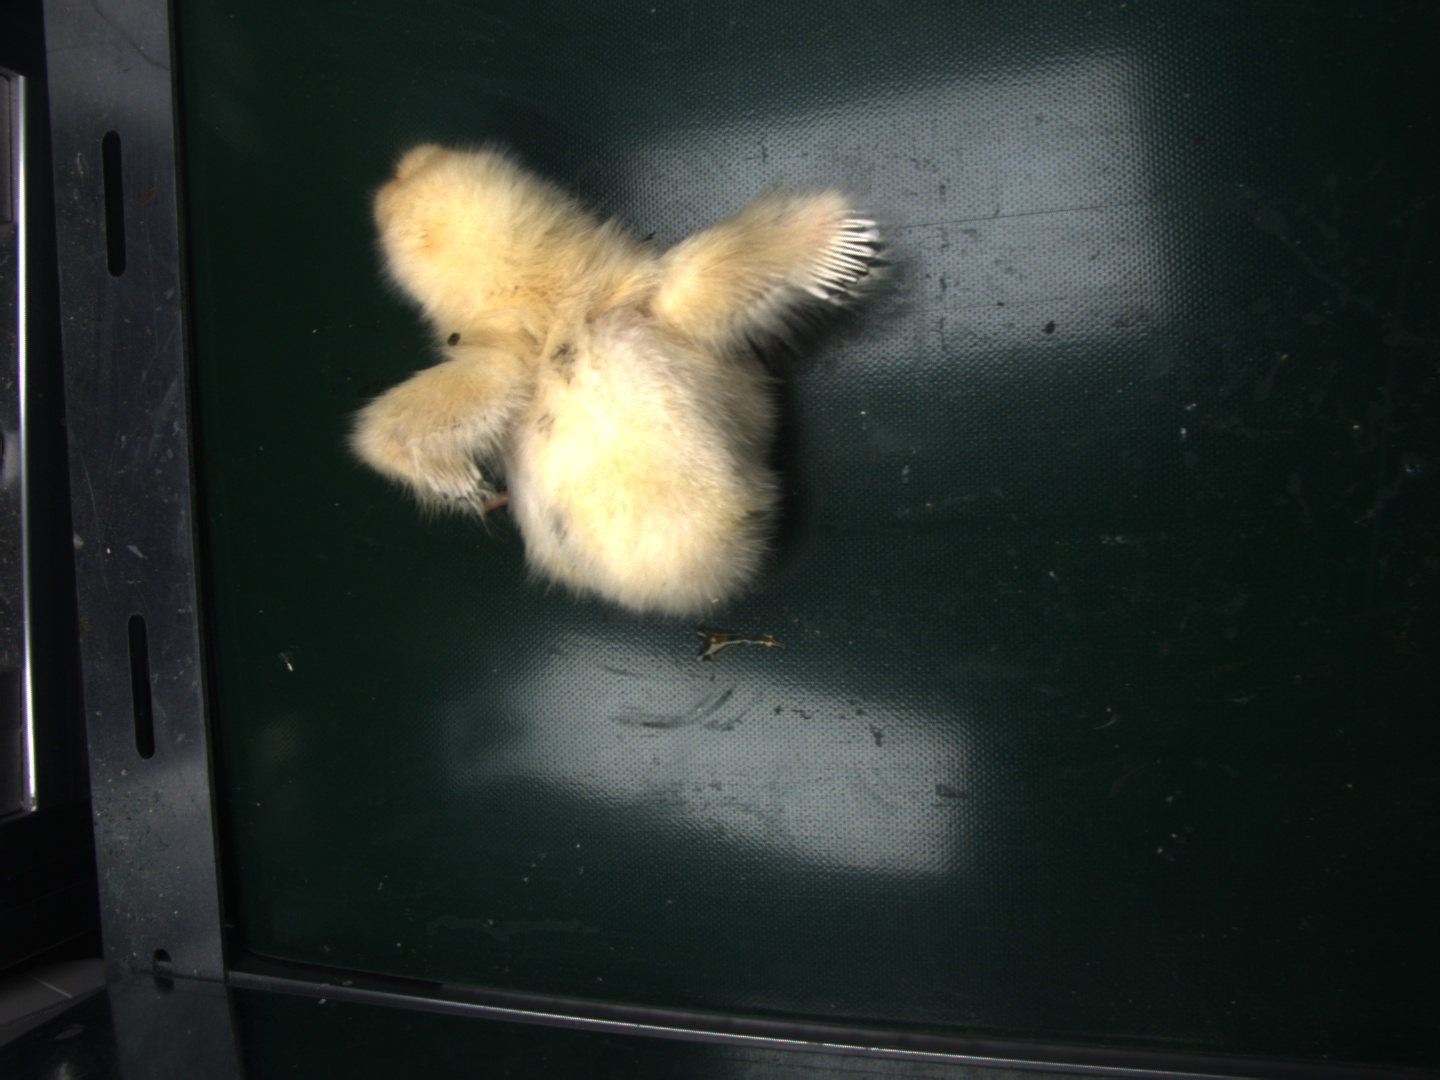male: (808, 205, 890, 299)
